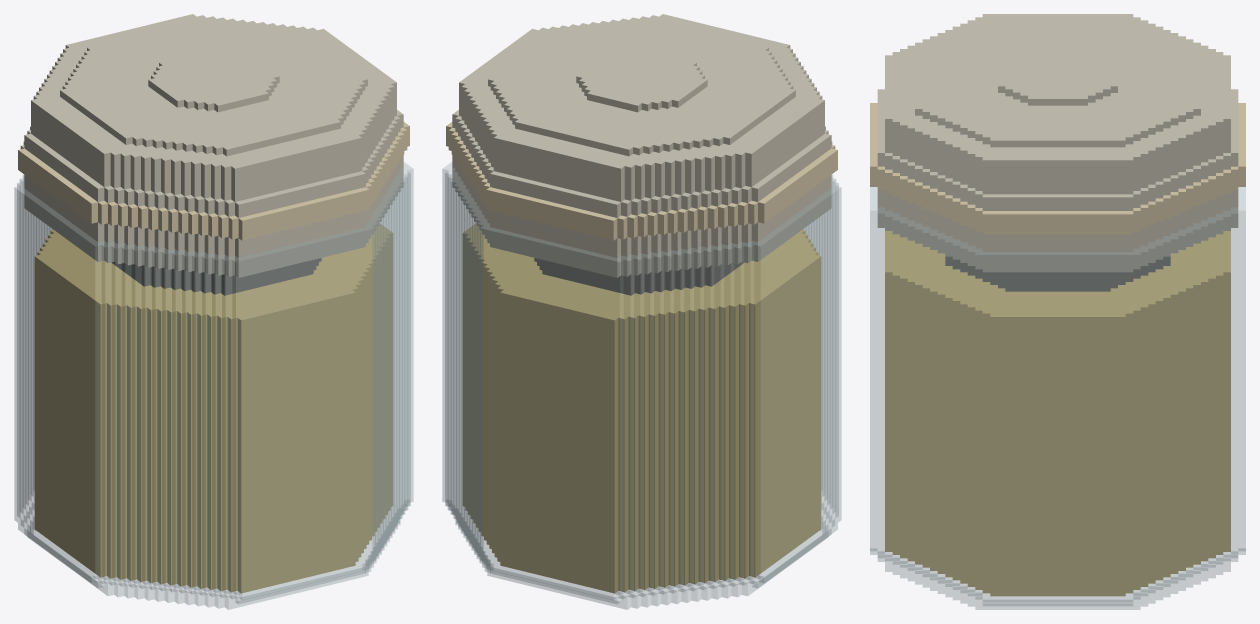
File: sauerkraut_ferment.glb
3 views of the same model, side by side, from view 1: azimuth 30°, elevation 25°; view 2: azimuth 150°, elevation 25°; view 3: azimuth 270°, elevation 25° (orthographic). The views are drawn at different scales.
Parts seen in each view (by area): view 1: sauerkraut_ferment:compound; view 2: sauerkraut_ferment:compound; view 3: sauerkraut_ferment:compound.
Part boxes in pixels (x1,y1,x2,y2): sauerkraut_ferment:compound: [14, 14, 413, 609]; sauerkraut_ferment:compound: [442, 14, 841, 609]; sauerkraut_ferment:compound: [870, 14, 1245, 609].
Size of the model in its own units: 0.1 by 0.136 by 0.1.
